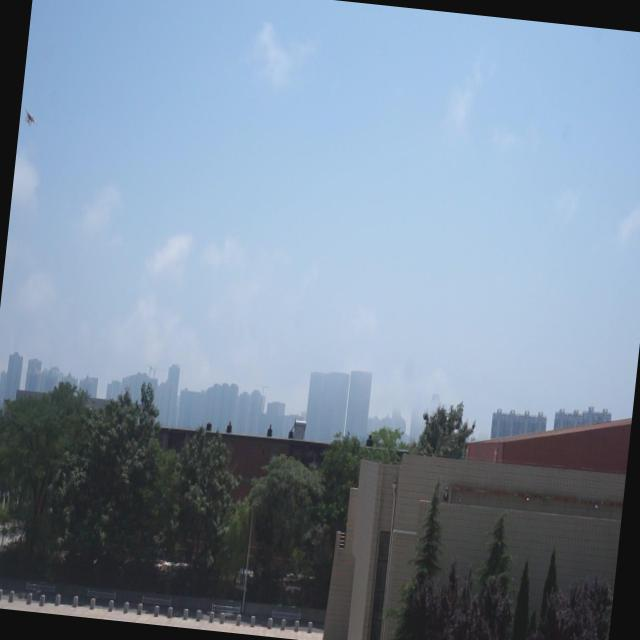drone: (22, 107, 36, 126)
